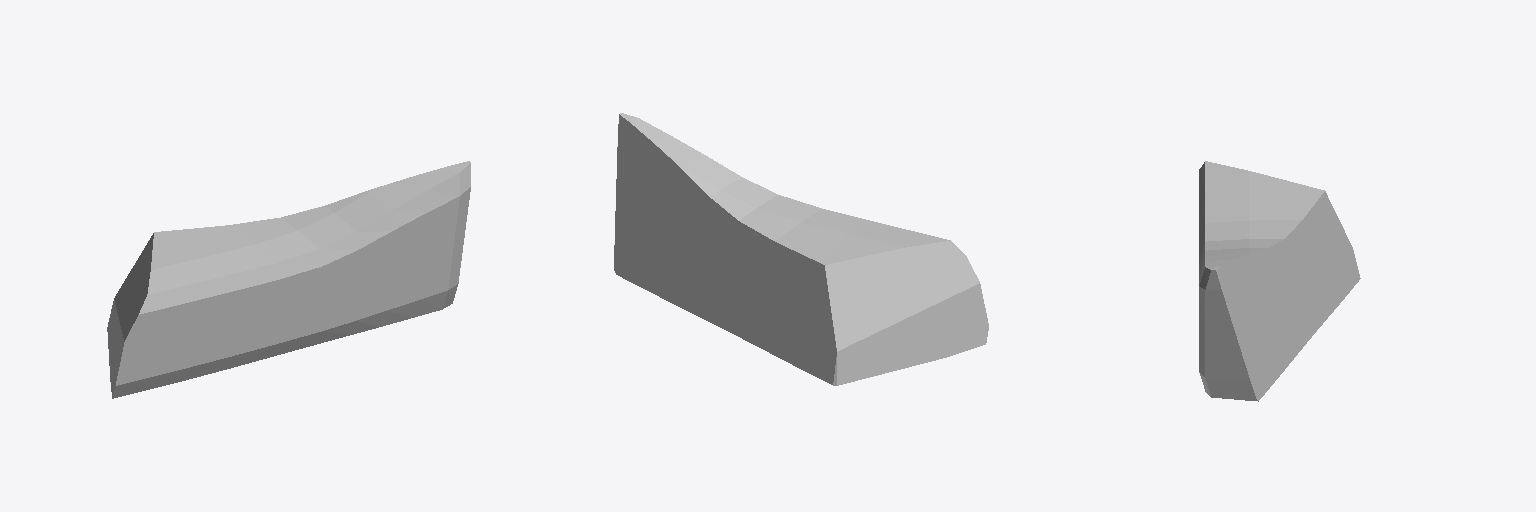
File: torii_broken_018.obj
3 renders of one model, left to right at view 1: azimuth 30°, elevation 25°; view 2: azimuth 150°, elevation 25°; view 3: azimuth 270°, elevation 25°, orthographic.
Parts seen in each view (by area): view 1: 鳥居.001_cell.018_鳥居.001_cell.008; view 2: 鳥居.001_cell.018_鳥居.001_cell.008; view 3: 鳥居.001_cell.018_鳥居.001_cell.008.
Boxes of the visible parts, x1,y1,x2,y2 form: 鳥居.001_cell.018_鳥居.001_cell.008: [107, 161, 470, 398]; 鳥居.001_cell.018_鳥居.001_cell.008: [614, 113, 988, 385]; 鳥居.001_cell.018_鳥居.001_cell.008: [1199, 161, 1360, 401].
Size of the model in its own units: 0.6003 by 0.2354 by 0.2319.